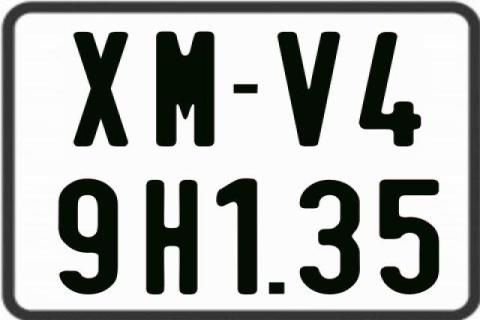0: (58, 179, 123, 297), (378, 178, 443, 294), (360, 30, 422, 146), (300, 178, 361, 294), (216, 177, 262, 293)
H: (146, 178, 202, 296)
M: (156, 29, 219, 145)
V: (276, 30, 341, 146)
X: (71, 31, 125, 147)
